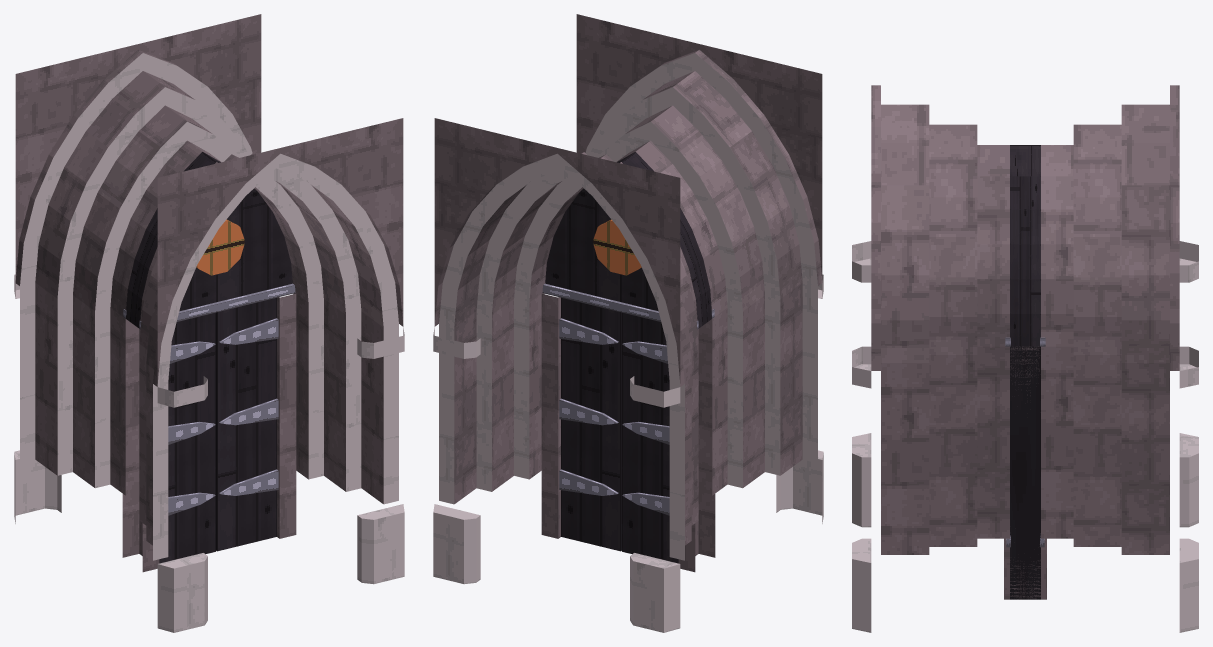
The model's file is door_bosshell_b.glb.
3 views of the same model, side by side, from view 1: azimuth 30°, elevation 25°; view 2: azimuth 150°, elevation 25°; view 3: azimuth 270°, elevation 25° (orthographic). The views are drawn at different scales.
Parts seen in each view (by area): view 1: portal_back, portal_front, leaf_a, portal, leaf_b; view 2: portal_front, portal_back, leaf_a, portal, leaf_b; view 3: portal_front, portal_back, leaf_a, portal.
Boxes of the visible parts, x1,y1,x2,y2 form: portal_back: [14, 14, 279, 557]; portal_front: [139, 118, 404, 632]; leaf_a: [216, 297, 278, 551]; portal: [123, 152, 295, 329]; leaf_b: [159, 312, 215, 563]; portal_front: [558, 14, 823, 557]; portal_back: [433, 118, 698, 632]; leaf_a: [559, 297, 621, 551]; portal: [542, 152, 714, 329]; leaf_b: [622, 312, 678, 563]; portal_front: [852, 85, 1025, 632]; portal_back: [1025, 85, 1198, 632]; leaf_a: [1006, 346, 1044, 599]; portal: [1005, 145, 1045, 346].
Size of the model in its own units: 2 by 3.5 by 2.25.
1 material, 1 textured.
